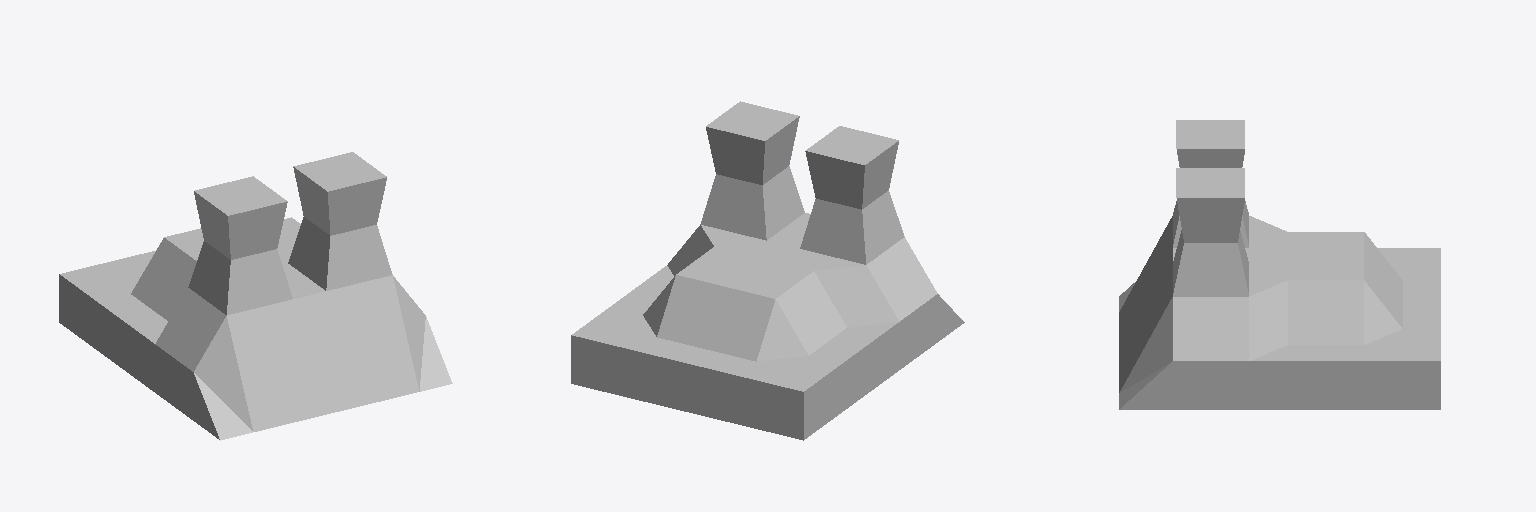
File: power_plant.obj
The picture shows the model from 3 angles: view 1: azimuth 30°, elevation 25°; view 2: azimuth 150°, elevation 25°; view 3: azimuth 270°, elevation 25°; orthographic projection.
Visible parts, largest first — view 1: Cube; view 2: Cube; view 3: Cube.
Boxes of the visible parts, box(x1,y1,x2,y2) form: Cube: box(59, 152, 452, 440); Cube: box(571, 101, 964, 440); Cube: box(1119, 120, 1440, 409).
Size of the model in its own units: 1 by 0.8 by 1.2.